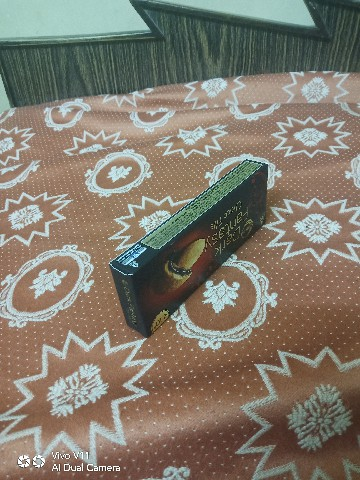darkfantasy small: (102, 129, 281, 343)
